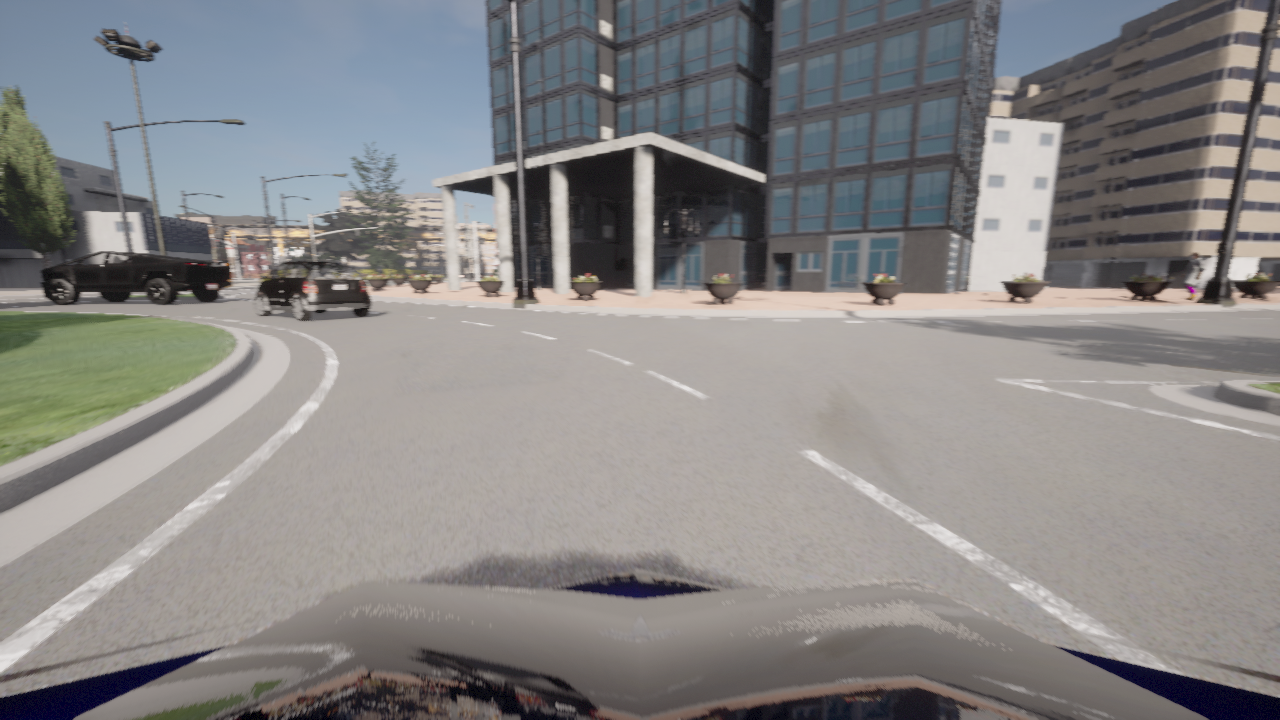cyclist: (0, 569, 1279, 719), (40, 251, 232, 304), (253, 261, 370, 321), (479, 273, 486, 275), (487, 273, 490, 274), (464, 274, 465, 277)
pedestrian: (1181, 253, 1204, 299), (375, 265, 384, 275)
